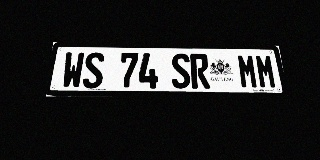4: (139, 53, 158, 88)
7: (118, 53, 139, 88)
M: (237, 54, 259, 89), (255, 54, 277, 89)
R: (190, 54, 210, 88)
S: (82, 52, 105, 88), (171, 53, 191, 88)
W: (61, 52, 85, 88)
